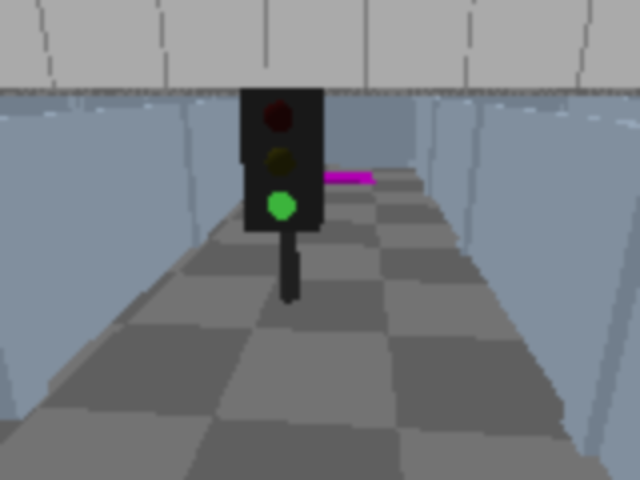goal_zone: (311, 171, 374, 183)
traffic_light: (237, 74, 325, 315)
